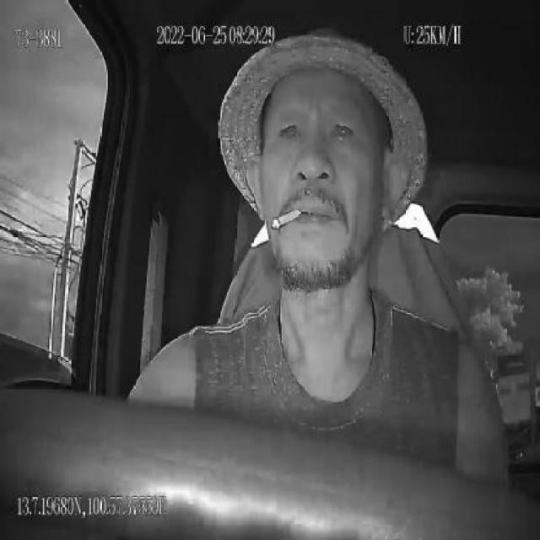smoking: (271, 204, 302, 235)
